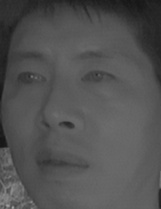eye: (82, 66, 117, 88), (15, 69, 48, 88)
mouth: (29, 145, 93, 183)
